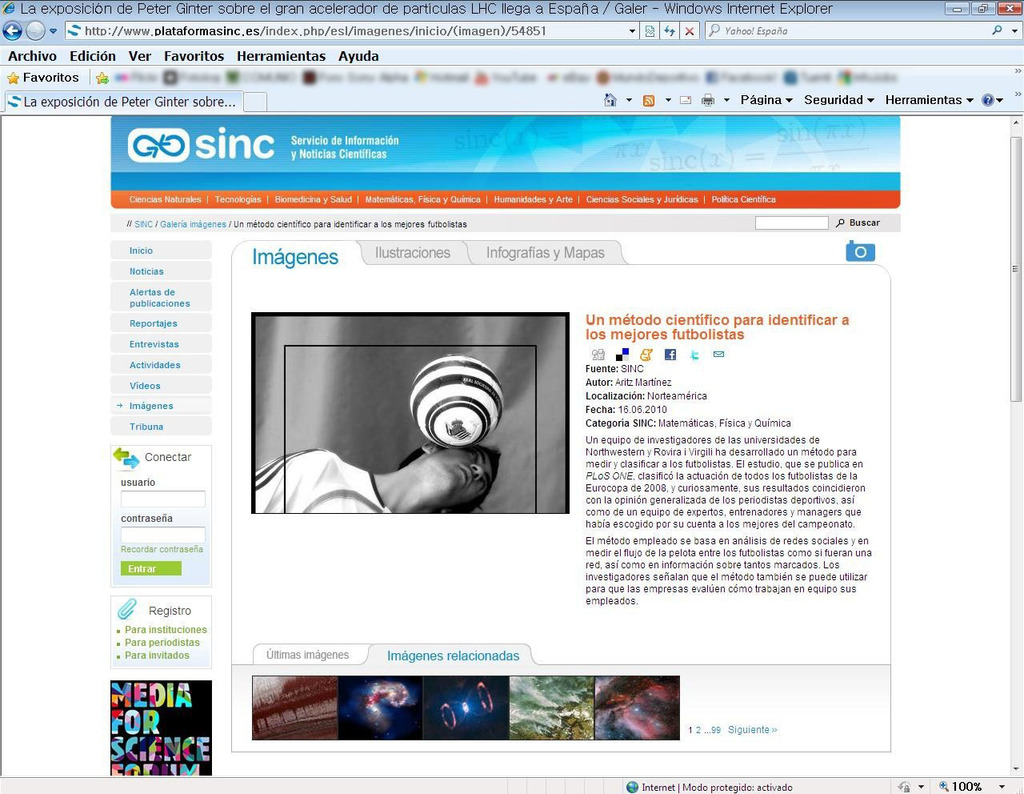person: (254, 437, 502, 514)
